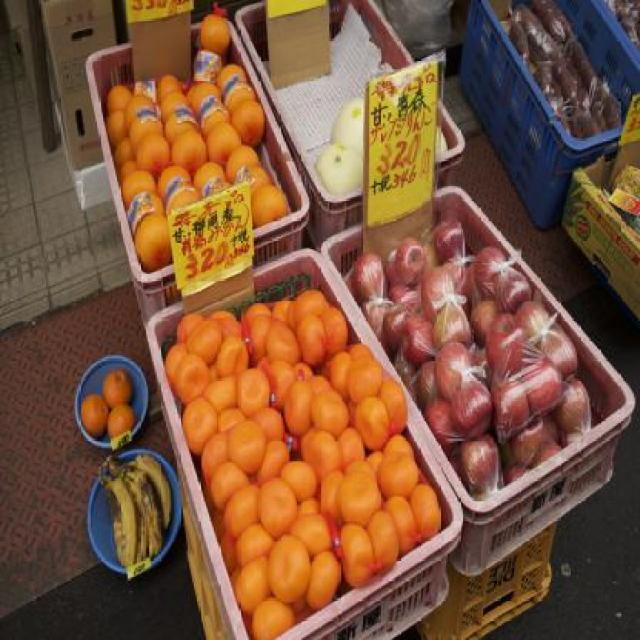Orange: (266, 528, 312, 604), (228, 404, 270, 468), (368, 506, 403, 574), (231, 555, 271, 614), (184, 389, 212, 469), (373, 496, 415, 549), (183, 317, 214, 388), (341, 524, 374, 588), (140, 214, 174, 274), (234, 362, 270, 418), (250, 596, 295, 639), (338, 472, 380, 518), (248, 178, 288, 226), (408, 481, 440, 541), (210, 458, 250, 504), (378, 450, 418, 493), (268, 324, 304, 370), (356, 402, 390, 450), (310, 550, 338, 607), (230, 100, 264, 146), (294, 314, 324, 366), (176, 352, 209, 399), (294, 510, 332, 550), (284, 373, 308, 436), (224, 486, 253, 536), (138, 134, 174, 174), (260, 485, 292, 530), (279, 454, 315, 494), (349, 362, 378, 410), (208, 121, 238, 164), (263, 422, 292, 466), (124, 167, 162, 200), (198, 433, 224, 481), (328, 348, 356, 392), (316, 389, 349, 426), (242, 316, 266, 366), (268, 363, 294, 408), (104, 370, 133, 408), (81, 392, 107, 434), (214, 370, 240, 412), (238, 518, 264, 560), (319, 310, 344, 352), (386, 380, 411, 422), (291, 286, 320, 322), (128, 108, 156, 144), (226, 86, 254, 122), (316, 430, 335, 482), (334, 432, 360, 470), (127, 93, 156, 127), (105, 403, 133, 437), (164, 187, 196, 216), (215, 336, 240, 373), (190, 159, 218, 192), (257, 408, 285, 438), (179, 134, 204, 166), (226, 150, 254, 178), (162, 108, 190, 134), (220, 62, 240, 96), (164, 89, 187, 118), (211, 312, 234, 336), (381, 432, 414, 448), (274, 302, 290, 333), (193, 80, 214, 103), (246, 300, 266, 322), (158, 77, 177, 97), (353, 340, 369, 358)
